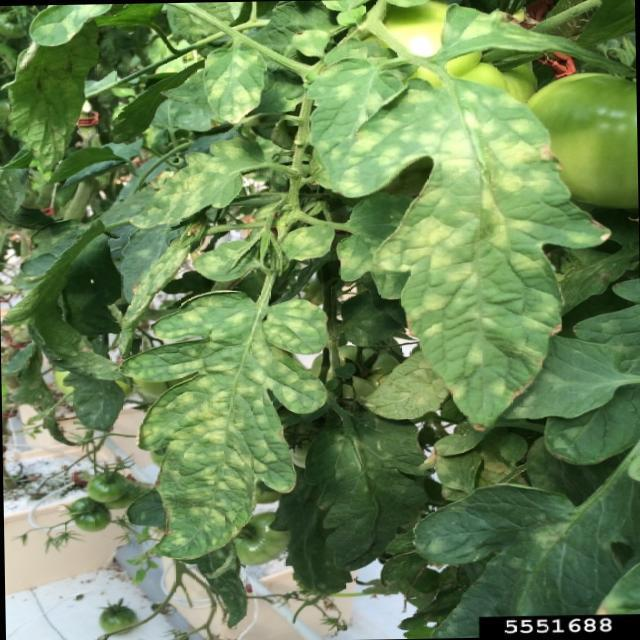Mosaic Virus: (330, 67, 554, 396), (146, 302, 303, 543), (120, 136, 286, 227), (294, 54, 394, 136), (195, 42, 262, 122)
